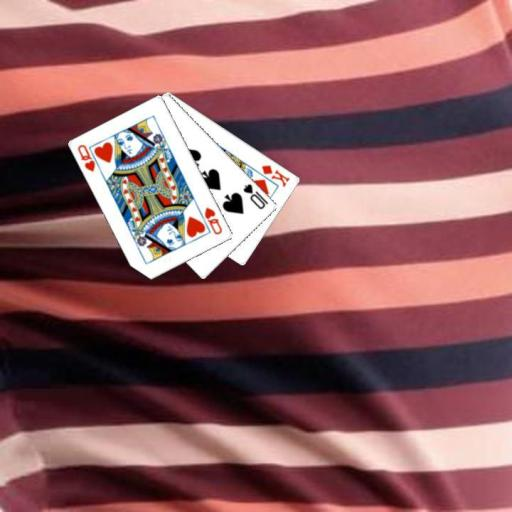10S: (241, 181, 271, 211)
KD: (259, 162, 291, 189)
QH: (75, 142, 104, 174), (201, 204, 224, 236)
